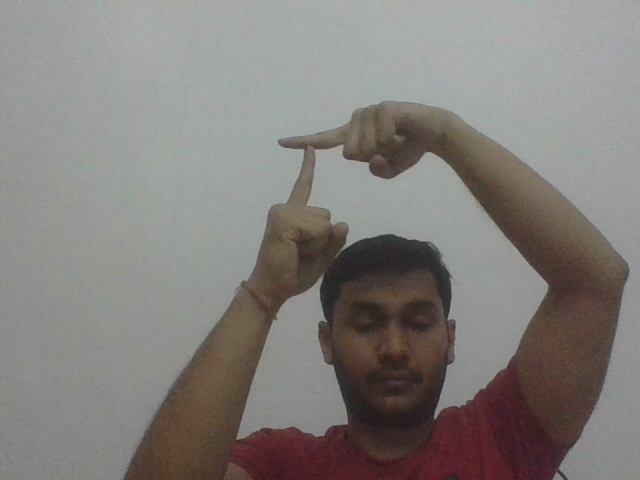T: (277, 121, 342, 205)
